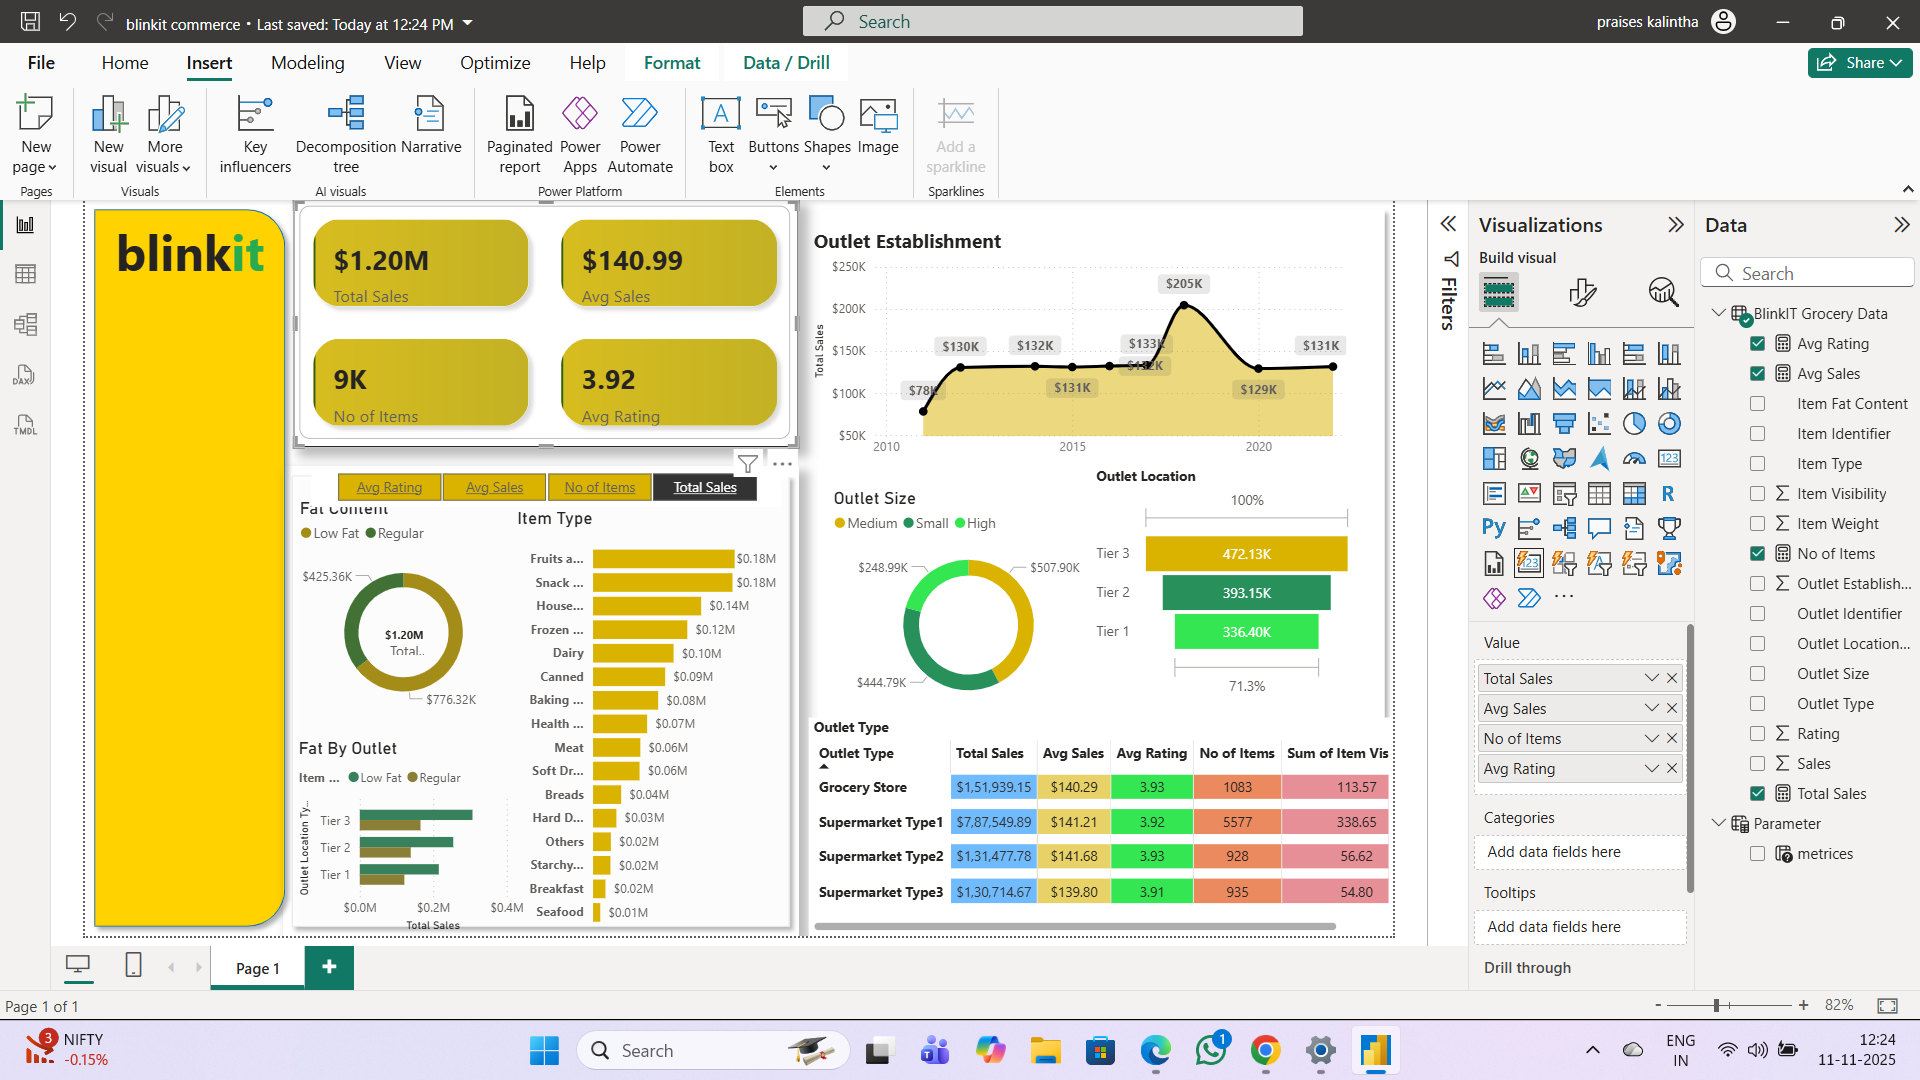

This screenshot's page, from the dashboard's own definition file:
{"tool":"powerbi","page":{"name":"Page 1","canvas":[1280,720],"ordinal":0},"visuals":[{"type":"shape","box":[0,0,205,720],"z":0},{"type":"textbox","box":[12.3,12.3,181.1,78.2],"z":1000},{"type":"cardVisual","fields":{"Data":["BlinkIT Grocery Data.Total Sales","BlinkIT Grocery Data.Avg Sales","BlinkIT Grocery Data.No of Items","BlinkIT Grocery Data.Avg Rating"]},"box":[204.5,0,494,241.5],"z":2000},{"type":"shape","box":[193.5,260.7,505,459.7],"z":3000},{"type":"donutChart","title":"Fat Content","fields":{"Y":["BlinkIT Grocery Data.Total Sales"],"Category":["BlinkIT Grocery Data.Item Fat Content"]},"box":[205.8,290.9,212.7,219.6],"z":4000},{"type":"slicer","fields":{"Values":["Parameter.Parameter"]},"box":[220.9,260.7,459.7,39.8],"z":5000},{"type":"cardVisual","fields":{"Data":["BlinkIT Grocery Data.Total Sales"]},"box":[275.8,400.7,72.7,49.4],"z":6000},{"type":"clusteredBarChart","title":"Fat By Outlet","fields":{"Y":["BlinkIT Grocery Data.Total Sales"],"Category":["BlinkIT Grocery Data.Outlet Location Type"],"Series":["BlinkIT Grocery Data.Item Fat Content"]},"box":[204.5,525.6,230.5,194.9],"z":7000},{"type":"barChart","title":"Item Type","fields":{"Y":["BlinkIT Grocery Data.Total Sales"],"Category":["BlinkIT Grocery Data.Item Type"]},"box":[418.5,300.5,263.5,419.9],"z":8000},{"type":"shape","box":[708.1,0,572.2,720.4],"z":9000},{"type":"lineChart","title":"Outlet Establishment ","fields":{"Category":["BlinkIT Grocery Data.Outlet Establishment Year"],"Y":["BlinkIT Grocery Data.Total Sales"]},"box":[708.1,27.4,531,233.3],"z":10000},{"type":"donutChart","title":"Outlet Size","fields":{"Y":["BlinkIT Grocery Data.Total Sales"],"Category":["BlinkIT Grocery Data.Outlet Size"]},"box":[727.3,281.3,274,225],"z":11000},{"type":"funnel","title":"Outlet Location","fields":{"Y":["Sum(BlinkIT Grocery Data.Sales)"],"Category":["BlinkIT Grocery Data.Outlet Location Type"]},"box":[983.9,260.7,261,230],"z":12000},{"type":"pivotTable","title":"Outlet Type","fields":{"Rows":["BlinkIT Grocery Data.Outlet Type"],"Values":["BlinkIT Grocery Data.Total Sales","BlinkIT Grocery Data.Avg Sales","BlinkIT Grocery Data.Avg Rating","BlinkIT Grocery Data.No of Items","Sum(BlinkIT Grocery Data.Item Visibility)"]},"box":[708.1,506.3,572.2,214.1],"z":13000}]}

Visuals, with their boxes on the page's 1280x720 design canvas (x1, y1, x2, y2). These are canvas units, not pixel positions in the 1920x1080 screenshot, which may show the page scaled, cropped or inside an application window:
shape: box=[0, 0, 205, 720]
textbox: box=[12, 12, 193, 90]
cardVisual - BlinkIT Grocery Data.Total Sales x BlinkIT Grocery Data.Avg Sales: box=[204, 0, 698, 242]
shape: box=[194, 261, 698, 720]
"Fat Content" donutChart: box=[206, 291, 418, 510]
slicer - Parameter.Parameter: box=[221, 261, 681, 300]
cardVisual - BlinkIT Grocery Data.Total Sales: box=[276, 401, 348, 450]
"Fat By Outlet" clusteredBarChart: box=[204, 526, 435, 720]
"Item Type" barChart: box=[418, 300, 682, 720]
shape: box=[708, 0, 1280, 720]
"Outlet Establishment " lineChart: box=[708, 27, 1239, 261]
"Outlet Size" donutChart: box=[727, 281, 1001, 506]
"Outlet Location" funnel: box=[984, 261, 1245, 491]
"Outlet Type" pivotTable: box=[708, 506, 1280, 720]
